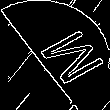M_SW: (15, 22, 95, 88)
